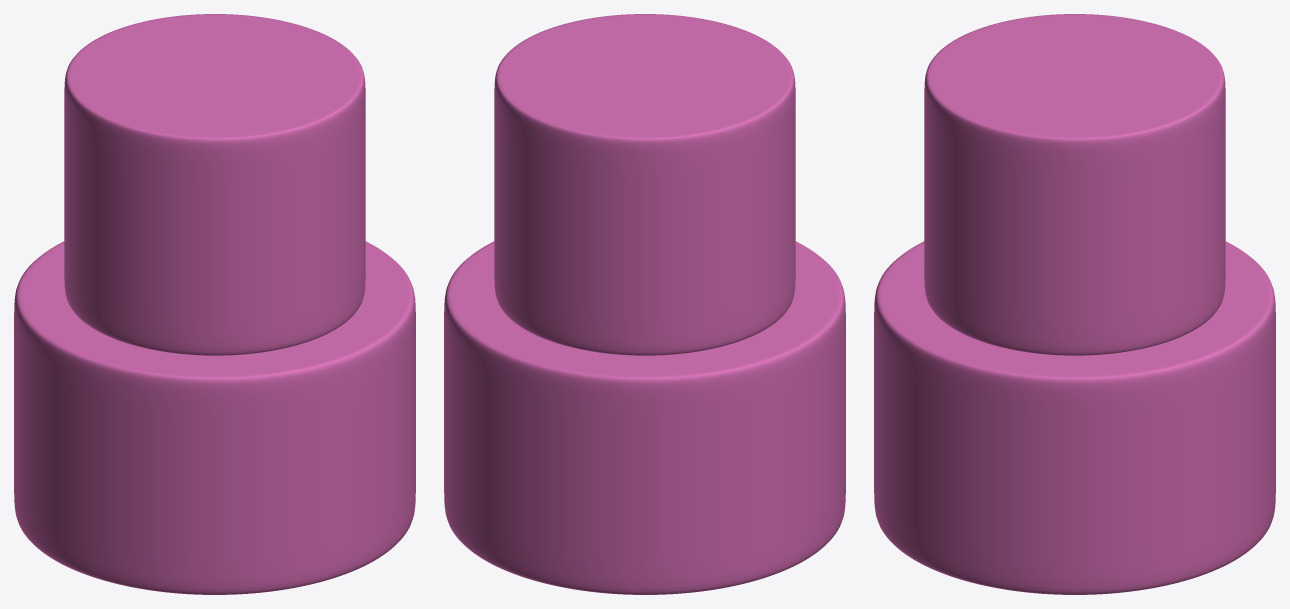
The model's file is Cake_Layer_2_Pink.glb.
3 renders of one model, left to right at view 1: azimuth 30°, elevation 25°; view 2: azimuth 150°, elevation 25°; view 3: azimuth 270°, elevation 25°, orthographic.
Visible parts, largest first — view 1: Circle.001, Circle.002; view 2: Circle.001, Circle.002; view 3: Circle.001, Circle.002.
Part boxes in pixels (x1,y1,x2,y2): Circle.001: (14,241,415,594); Circle.002: (64,14,365,355); Circle.001: (444,241,845,594); Circle.002: (494,14,795,355); Circle.001: (874,241,1275,594); Circle.002: (924,14,1225,355).
Size of the model in its own units: 0.2 by 0.24 by 0.2.
